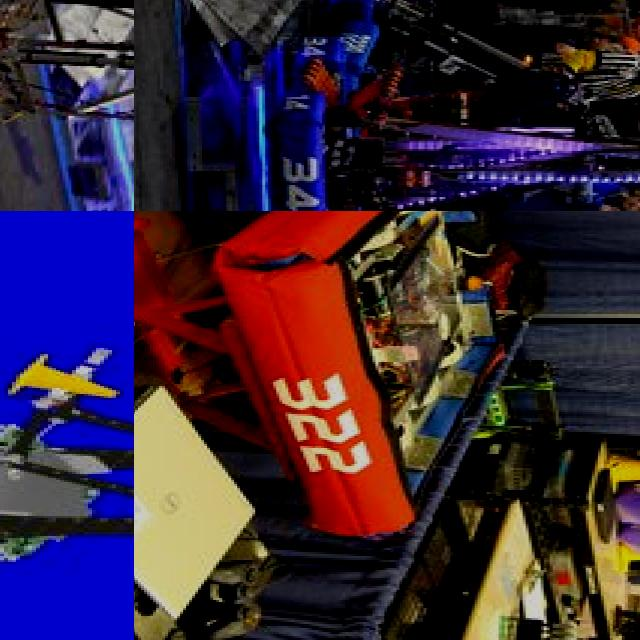FRC-Robots: (287, 211, 539, 544), (245, 113, 626, 211), (0, 330, 134, 578), (0, 0, 134, 211), (338, 0, 580, 83)
